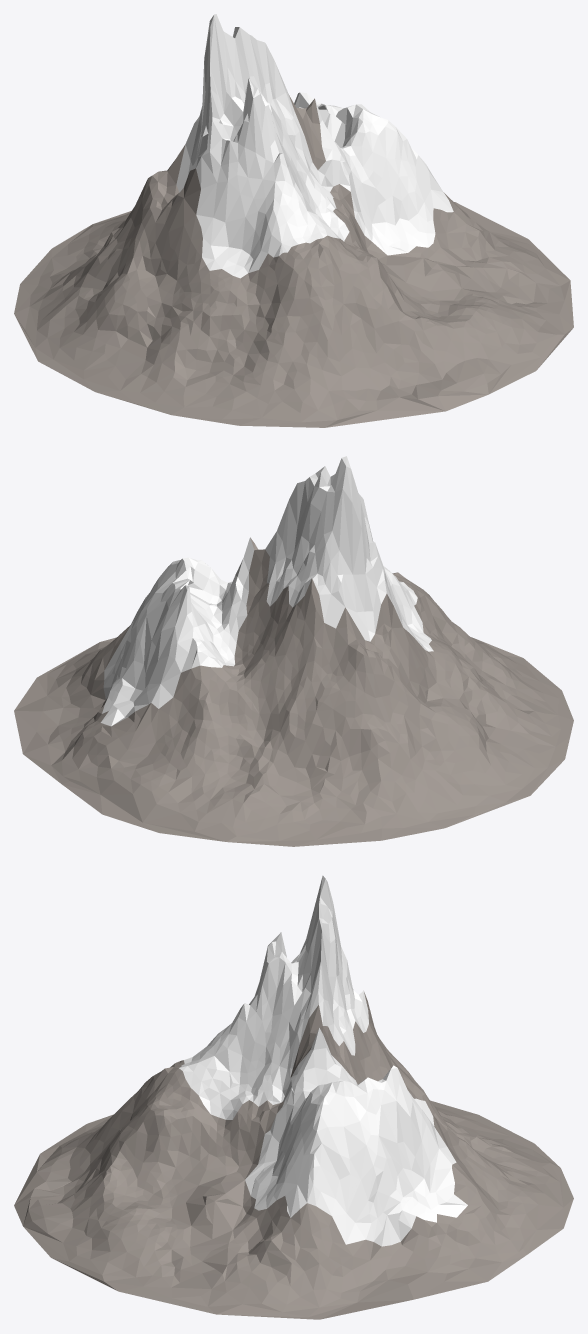
File: Mountain_1.fbx
The picture shows the model from 3 angles, top to bottom: view 1: azimuth 30°, elevation 25°; view 2: azimuth 150°, elevation 25°; view 3: azimuth 270°, elevation 25°; orthographic projection.
Visible parts, largest first — view 1: Mountain 1_LOD0; view 2: Mountain 1_LOD0; view 3: Mountain 1_LOD0.
Part boxes in pixels (x1,y1,x2,y2): Mountain 1_LOD0: (14, 14, 573, 427); Mountain 1_LOD0: (14, 456, 573, 846); Mountain 1_LOD0: (14, 875, 573, 1319).
Size of what is drawn, in the model's own units: 19979 by 11617 by 20006.
